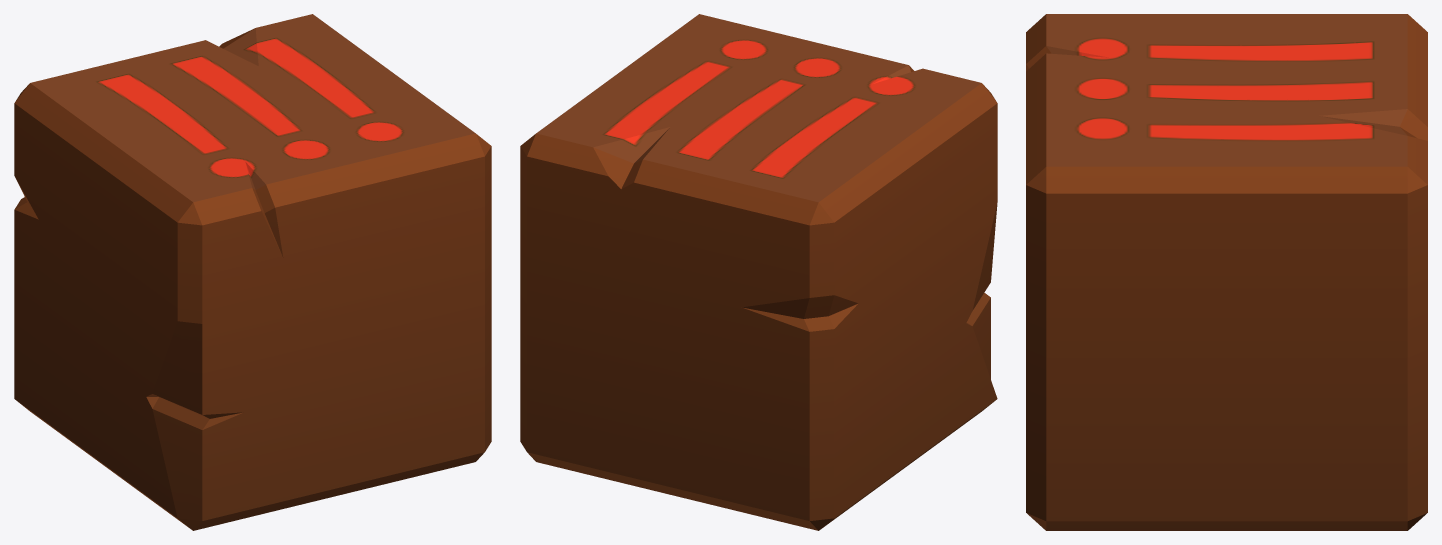
The model's file is Tile_Danger_Cracked_02.fbx.
3 renders of one model, left to right at view 1: azimuth 30°, elevation 25°; view 2: azimuth 150°, elevation 25°; view 3: azimuth 270°, elevation 25°, orthographic. The views are drawn at different scales.
Parts seen in each view (by area): view 1: Tile Merah Coak Danger.001; view 2: Tile Merah Coak Danger.001; view 3: Tile Merah Coak Danger.001.
Part boxes in pixels (left/top/right/bottom): Tile Merah Coak Danger.001: left=14, top=14, right=491, bottom=530; Tile Merah Coak Danger.001: left=520, top=14, right=997, bottom=530; Tile Merah Coak Danger.001: left=1026, top=14, right=1427, bottom=530.
Bounding box in the file's own units: 1 × 1 × 1.
Materials: 1 (1 with a texture image).
